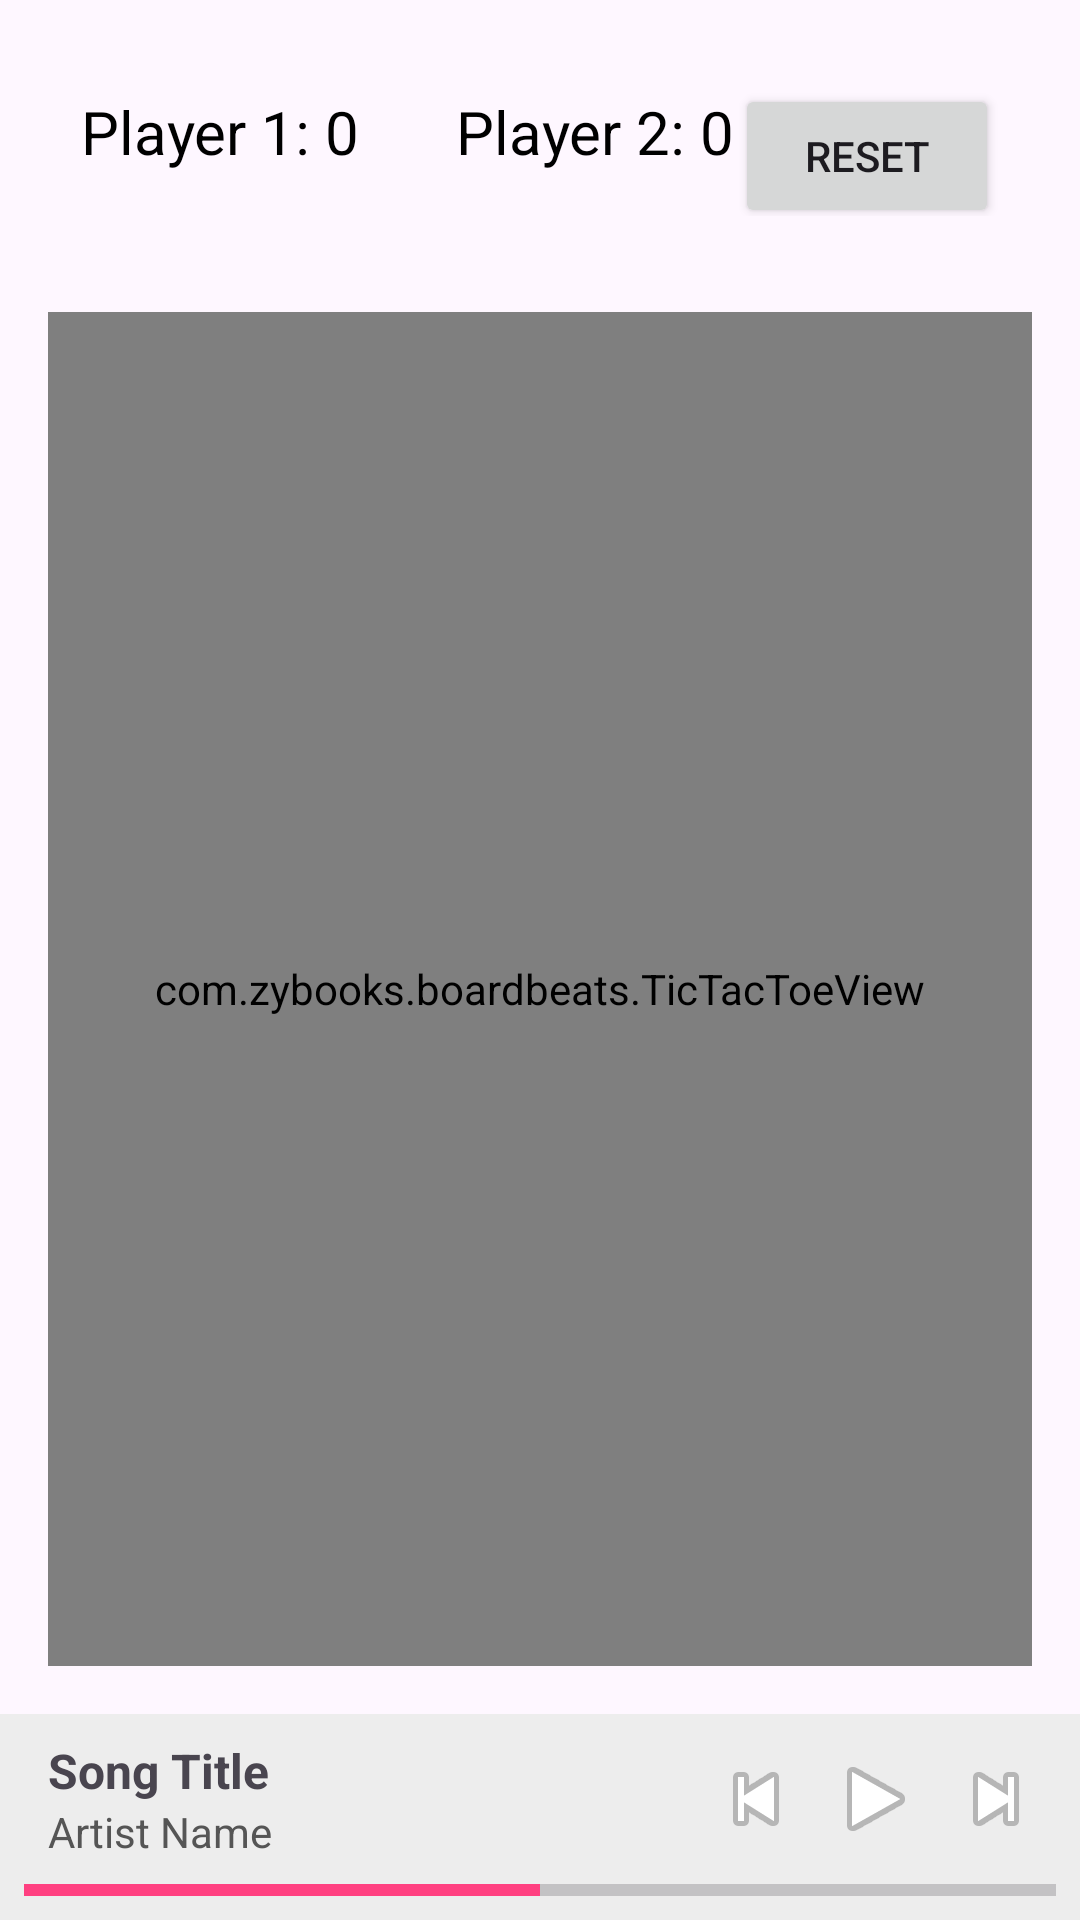

Icon bounding boxes for this 1080 × 1920 phone screenshot, format (x1, y1, x2, y2):
Next song: (973, 1772, 1019, 1826)
Play or pause: (847, 1767, 905, 1831)
Previous song: (733, 1772, 779, 1826)
